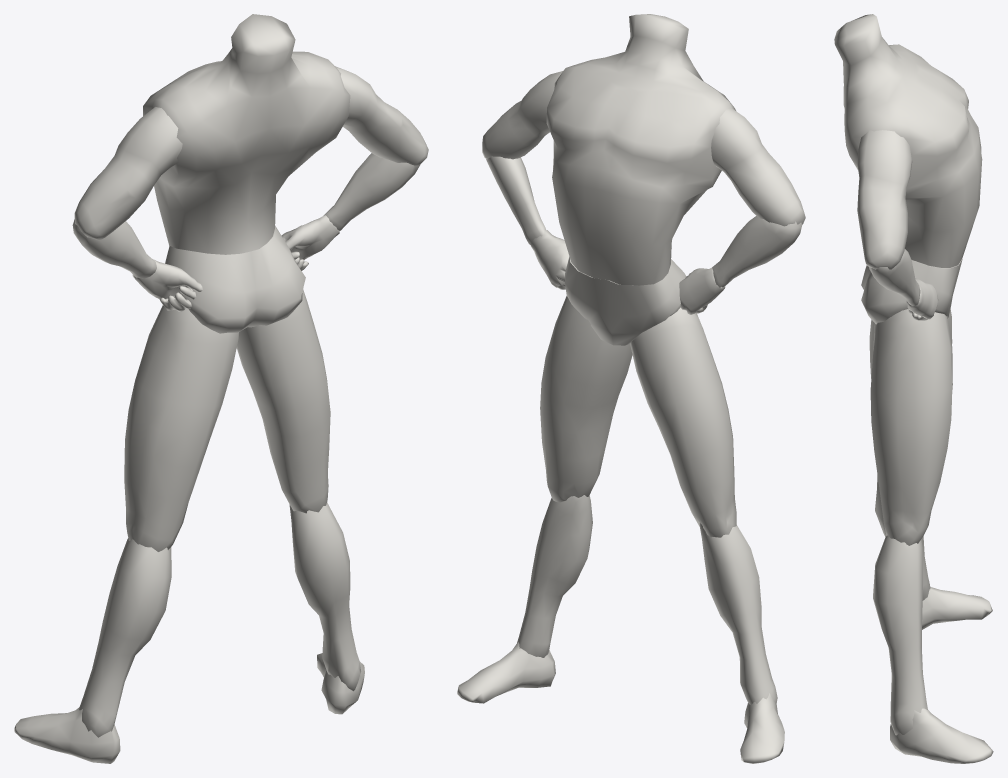
The model's file is Male Body.glb.
The picture shows the model from 3 angles, left to right: view 1: azimuth 30°, elevation 25°; view 2: azimuth 150°, elevation 25°; view 3: azimuth 270°, elevation 25°; orthographic projection. The views are drawn at different scales.
Visible parts, largest first — view 1: Standard.30, Standard.16, Standard.26, Standard.15, Standard.31, Standard.27, Standard.13, Standard.29, Standard.14, Standard.21, Standard.12, Standard.22 (+2 smaller); view 2: Standard.30, Standard.16, Standard.26, Standard.15, Standard.27, Standard.31, Standard.13, Standard.29, Standard.28, Standard.12, Standard.21, Standard.14 (+2 smaller); view 3: Standard.30, Standard.26, Standard.27, Standard.29, Standard.28, Standard.31, Standard.14, Standard.21, Standard.22, Standard.15, Standard.16.
Part boxes in pixels (x1,y1,x2,y2): Standard.30: (143,14,350,254); Standard.16: (124,305,239,551); Standard.26: (236,289,330,513); Standard.15: (79,538,171,737); Standard.31: (165,225,305,333); Standard.27: (289,502,360,691); Standard.13: (74,107,182,240); Standard.29: (335,66,428,166); Standard.14: (14,707,120,763); Standard.21: (323,153,420,230); Standard.12: (72,219,156,278); Standard.22: (281,215,339,259); Standard.30: (546,14,735,285); Standard.16: (630,307,736,537); Standard.26: (540,296,632,502); Standard.15: (699,523,777,705); Standard.27: (517,495,592,657); Standard.31: (565,257,686,345); Standard.13: (711,108,805,226); Standard.29: (482,71,562,159); Standard.28: (457,642,555,703); Standard.12: (712,216,802,287); Standard.21: (486,156,545,244); Standard.14: (740,693,784,763); Standard.30: (834,14,982,267); Standard.26: (870,309,952,545); Standard.27: (873,535,927,735); Standard.29: (857,130,912,269); Standard.28: (890,708,993,763); Standard.31: (861,258,962,324); Standard.14: (922,587,992,629); Standard.21: (869,249,920,306); Standard.22: (906,278,938,319); Standard.15: (875,475,930,600); Standard.16: (869,309,952,378).
Size of the model in its own units: 0.0412 by 0.08 by 0.0168.
20 materials, 20 textured.
